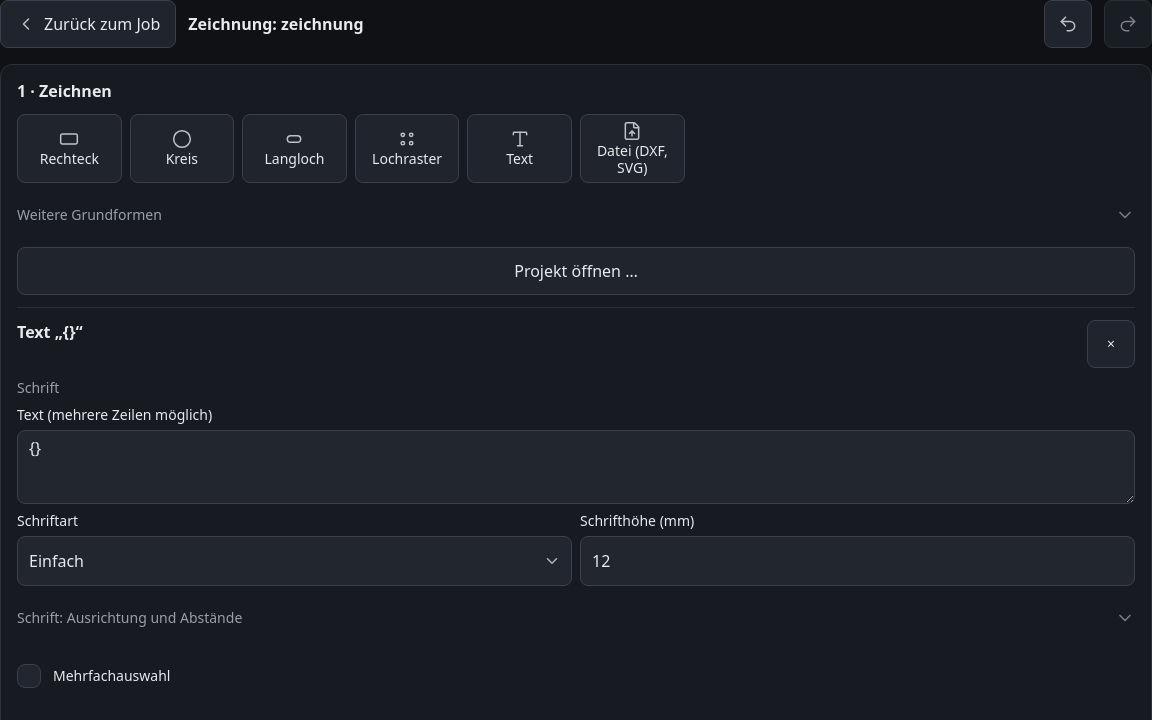
Test case: the block "Schrift" of a selected text › keeps a face that cannot write the words where it was: the select shows the pick, the note the reason
Select "Standard" in the dropdown labelled "Schriftart": (294, 561) [18,537,571,585]
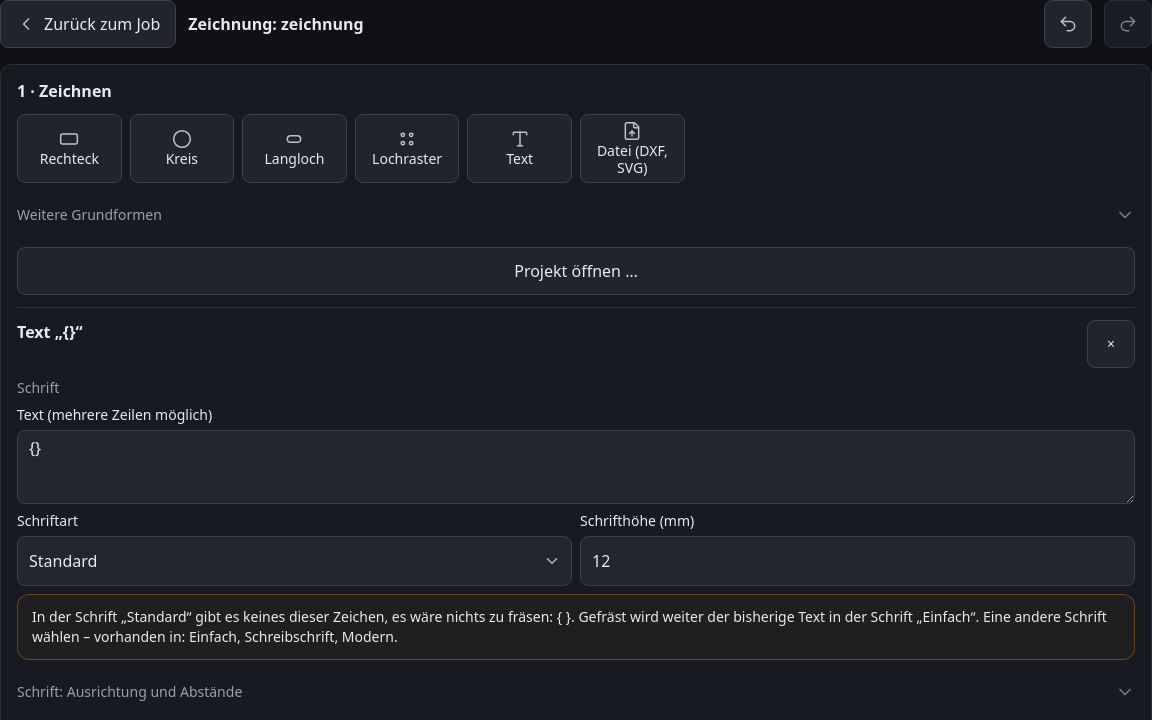
Select "Einfach" in the dropdown labelled "Schriftart": (294, 561) [18,537,571,585]
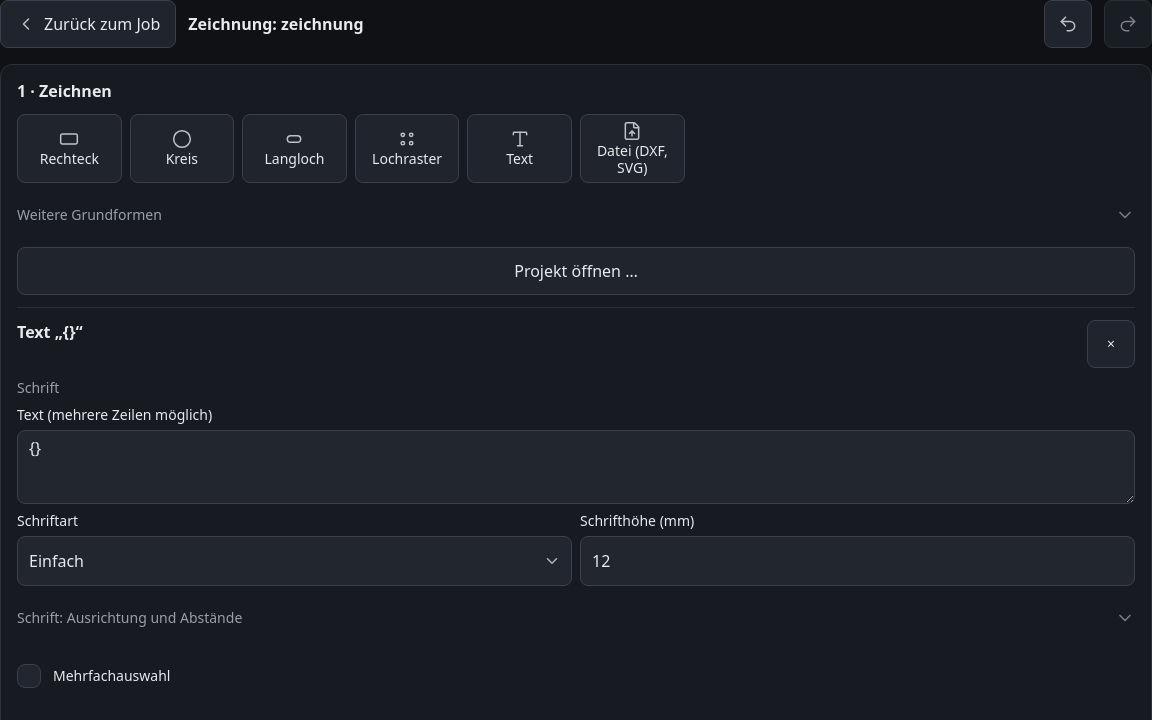
Now the text with test id "cam-text-missing" is gone
